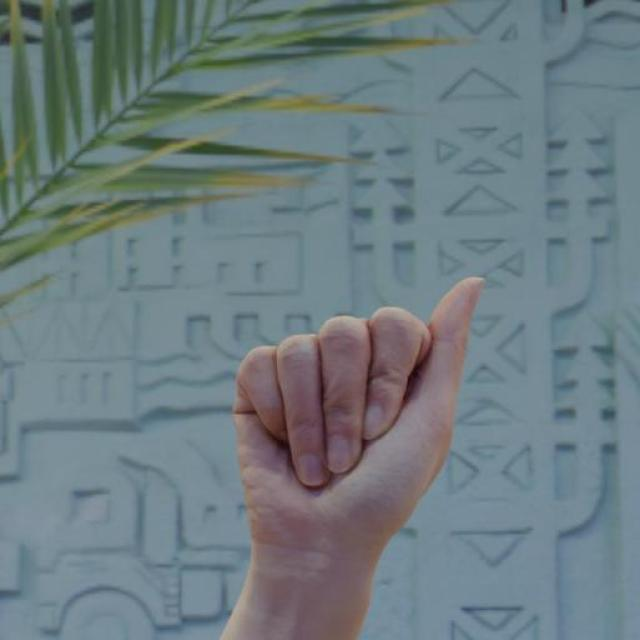A: (230, 273, 487, 551)
